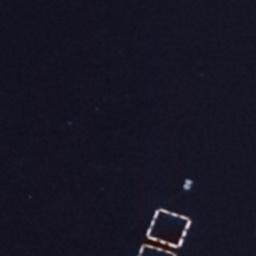square_solid: (144, 207, 192, 251)
